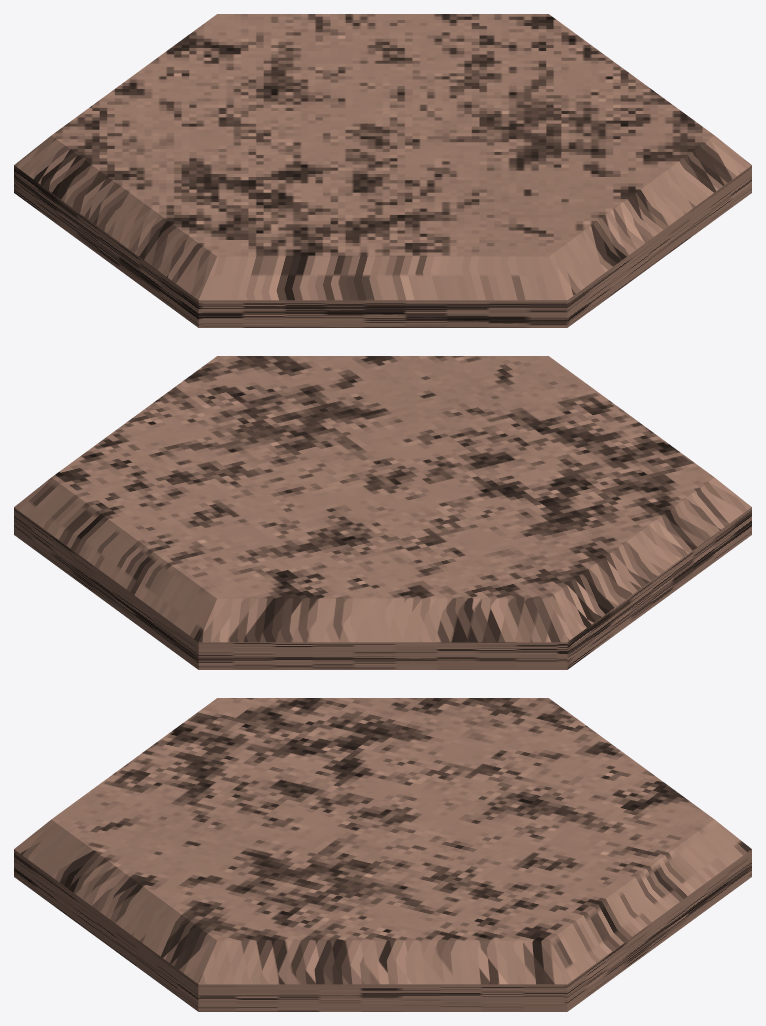
Rendered from Starter Island Hex.fbx.
The picture shows the model from 3 angles, top to bottom: view 1: azimuth 30°, elevation 25°; view 2: azimuth 150°, elevation 25°; view 3: azimuth 270°, elevation 25°; orthographic projection.
Visible parts, largest first — view 1: TexturesCom_Branches0030_1_S.003; view 2: TexturesCom_Branches0030_1_S.003; view 3: TexturesCom_Branches0030_1_S.003.
Part boxes in pixels (x1,y1,x2,y2): TexturesCom_Branches0030_1_S.003: (14,14,751,327); TexturesCom_Branches0030_1_S.003: (14,356,751,669); TexturesCom_Branches0030_1_S.003: (14,698,751,1011).
Size of the model in its own units: 173 by 17.2 by 200.
Materials: 1 (1 with a texture image).
